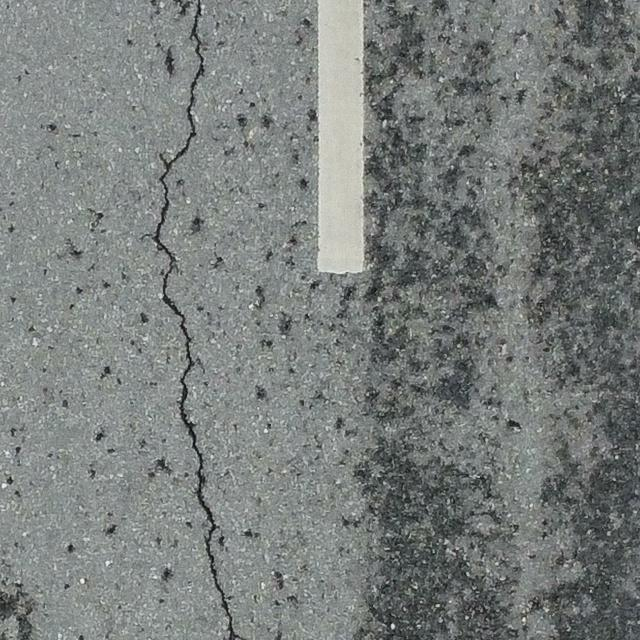LongitudinalCrack: (152, 1, 239, 640)
